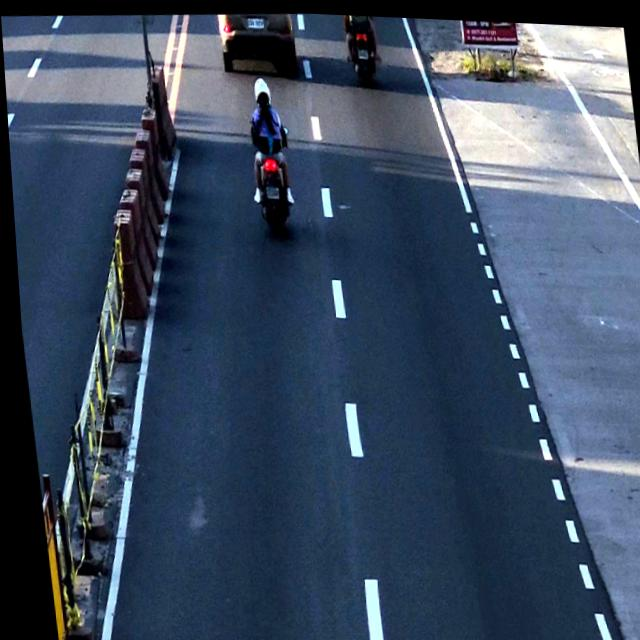Car: (217, 9, 301, 63)
License-Plate: (262, 181, 279, 202)
Motorcycle: (234, 66, 299, 244), (341, 12, 379, 86)
